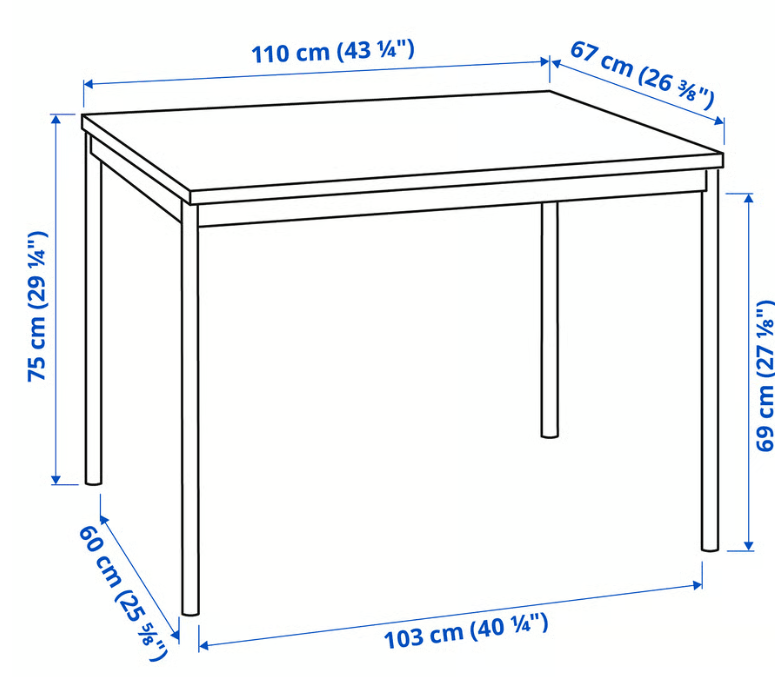table_legs: (182, 199, 199, 616), (701, 169, 719, 551), (86, 134, 102, 485), (541, 202, 559, 438)
table_support: (198, 170, 706, 226), (91, 136, 182, 223)
table_top: (82, 91, 724, 204)
